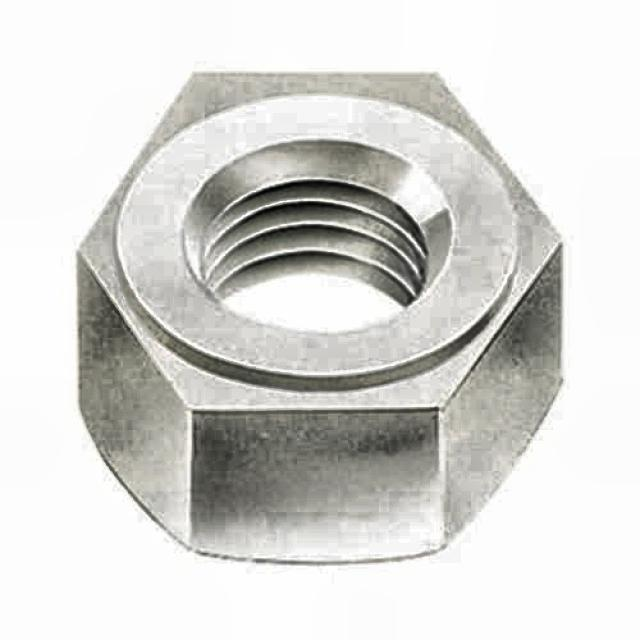Nut Detection - v1 Nut Dataset: (31, 51, 566, 563)
